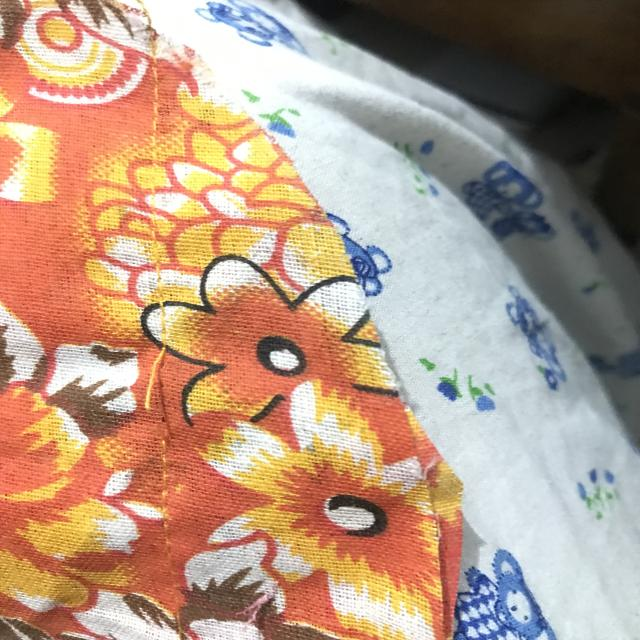broken: (132, 334, 186, 456)
